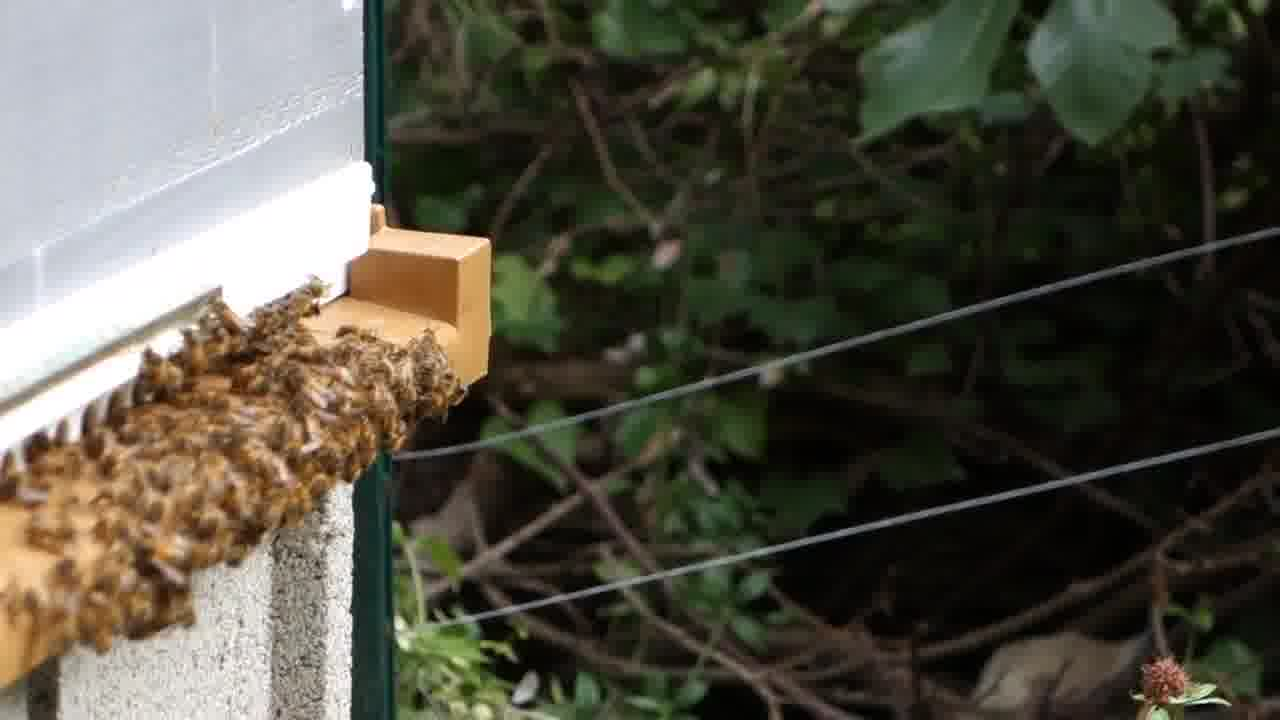bee: (392, 312, 460, 382), (276, 363, 332, 421), (135, 345, 189, 395), (208, 288, 246, 347), (282, 283, 332, 326)
